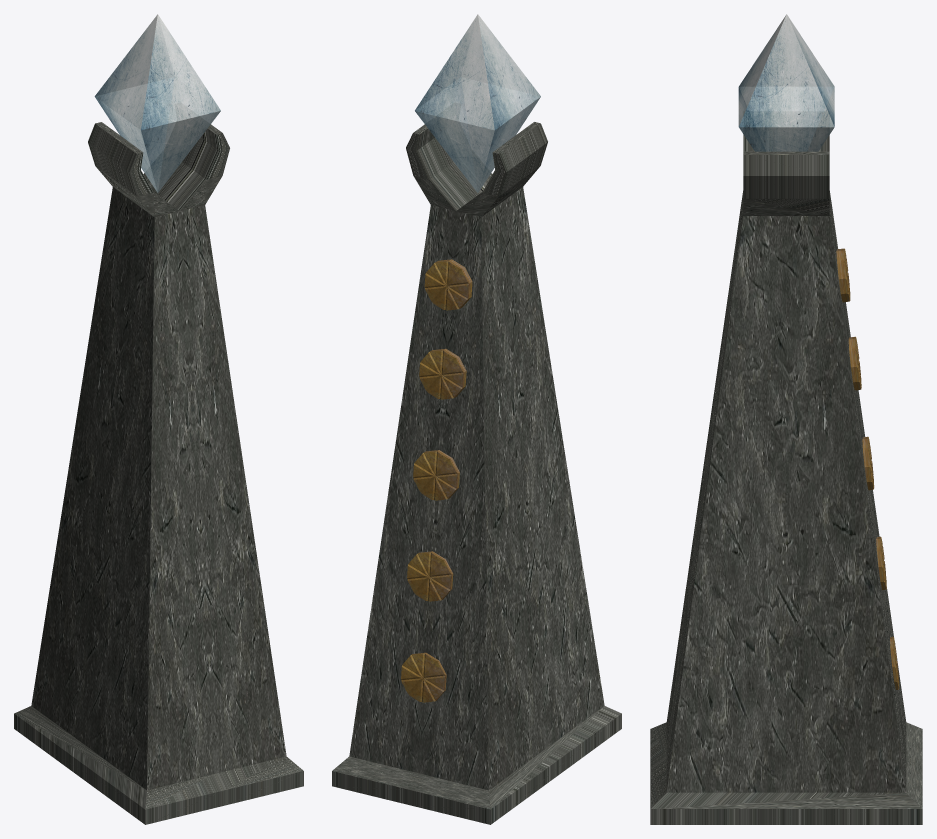
The model's file is magic_pole.FBX.
3 renders of one model, left to right at view 1: azimuth 30°, elevation 25°; view 2: azimuth 150°, elevation 25°; view 3: azimuth 270°, elevation 25°, orthographic. The views are drawn at different scales.
Visible parts, largest first — view 1: Box001, Hedra001; view 2: Box001, Hedra001, spiker004, spiker003, spiker002, spiker001, spiker; view 3: Box001, Hedra001, spiker004.
Boxes of the visible parts, left/top/right/bottom form: Box001: left=14, top=122, right=303, bottom=824; Hedra001: left=94, top=14, right=220, bottom=192; Box001: left=332, top=122, right=621, bottom=824; Hedra001: left=415, top=14, right=540, bottom=192; spiker004: left=424, top=259, right=472, bottom=310; spiker003: left=419, top=348, right=466, bottom=399; spiker002: left=413, top=450, right=459, bottom=500; spiker001: left=407, top=551, right=453, bottom=601; spiker: left=401, top=652, right=446, bottom=702; Box001: left=650, top=134, right=922, bottom=824; Hedra001: left=738, top=14, right=834, bottom=151; spiker004: left=836, top=248, right=850, bottom=302.
Bounding box in the file's own units: 14.87 × 66.68 × 21.34.
3 materials, 3 textured.
